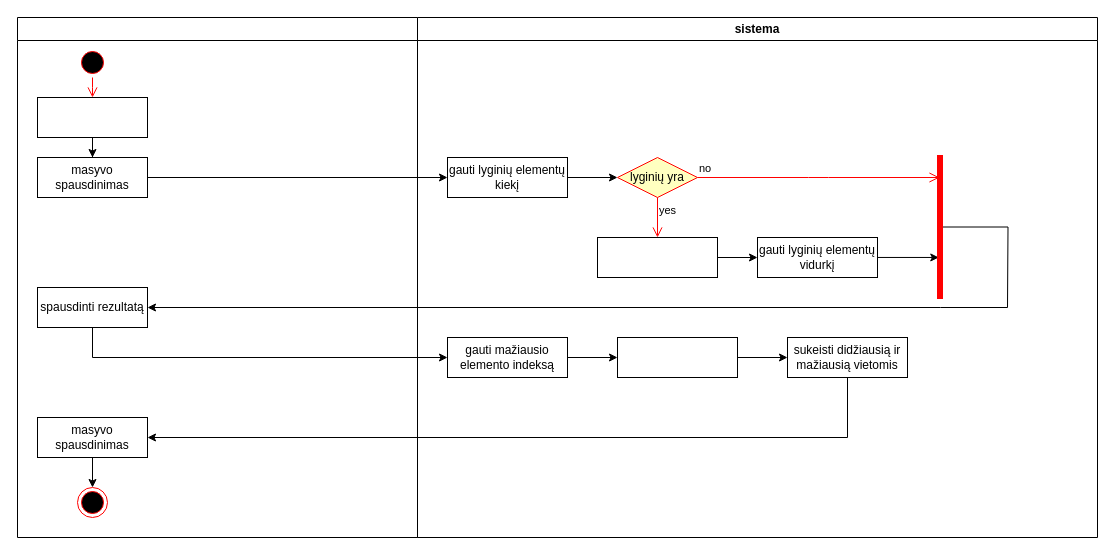
This 1115x555 diagram has some shape labels left out. The shapes that lost their labels are listed below. From the top down, each one's box as (x1, y1, x2, y2) in pixels, then its label:
(36, 96, 148, 138): masyvo įvedimas
(16, 16, 418, 538): vartotojas
(596, 236, 718, 278): gauti lyginių elementų sumą
(616, 336, 738, 378): gauti didžiausio elemento indeksą
